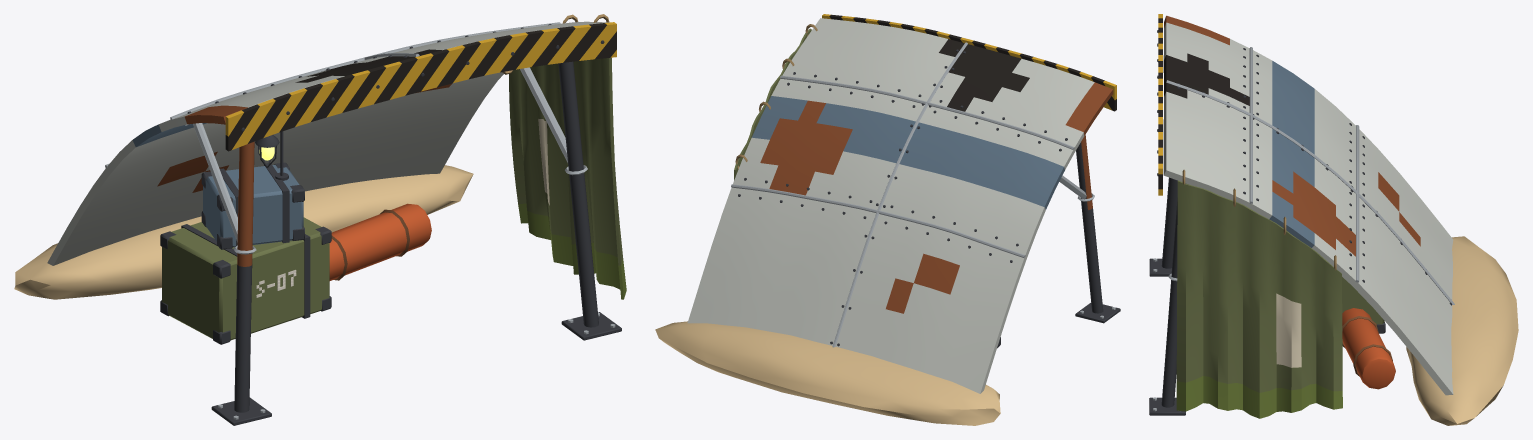
Rendered from deco_salvage_hull_shelter.fbx.
3 views of the same model, side by side, from view 1: azimuth 30°, elevation 25°; view 2: azimuth 150°, elevation 25°; view 3: azimuth 270°, elevation 25° (orthographic). The views are drawn at different scales.
Visible parts, largest first — view 1: Salvage_HullShelter_Panel, Salvage_HullShelter_Crate, Salvage_HullShelter_Tarp, Salvage_HullShelter_SandDrift, Salvage_HullShelter_Struts; view 2: Salvage_HullShelter_Panel, Salvage_HullShelter_SandDrift, Salvage_HullShelter_Struts, Salvage_HullShelter_Tarp; view 3: Salvage_HullShelter_Panel, Salvage_HullShelter_Tarp, Salvage_HullShelter_SandDrift, Salvage_HullShelter_Crate, Salvage_HullShelter_Struts.
Boxes of the visible parts, x1,y1,x2,y2 form: Salvage_HullShelter_Panel: [47, 21, 616, 265]; Salvage_HullShelter_Crate: [160, 131, 431, 344]; Salvage_HullShelter_Tarp: [502, 14, 626, 299]; Salvage_HullShelter_SandDrift: [14, 165, 473, 299]; Salvage_HullShelter_Struts: [185, 61, 621, 425]; Salvage_HullShelter_Panel: [687, 14, 1116, 393]; Salvage_HullShelter_SandDrift: [655, 321, 1000, 425]; Salvage_HullShelter_Struts: [1059, 134, 1120, 323]; Salvage_HullShelter_Tarp: [734, 24, 817, 180]; Salvage_HullShelter_Panel: [1157, 14, 1454, 395]; Salvage_HullShelter_Tarp: [1176, 169, 1342, 418]; Salvage_HullShelter_SandDrift: [1406, 236, 1518, 425]; Salvage_HullShelter_Crate: [1342, 277, 1395, 389]; Salvage_HullShelter_Struts: [1149, 177, 1185, 415].
Bounding box in the file's own units: 377 × 253 × 323.
